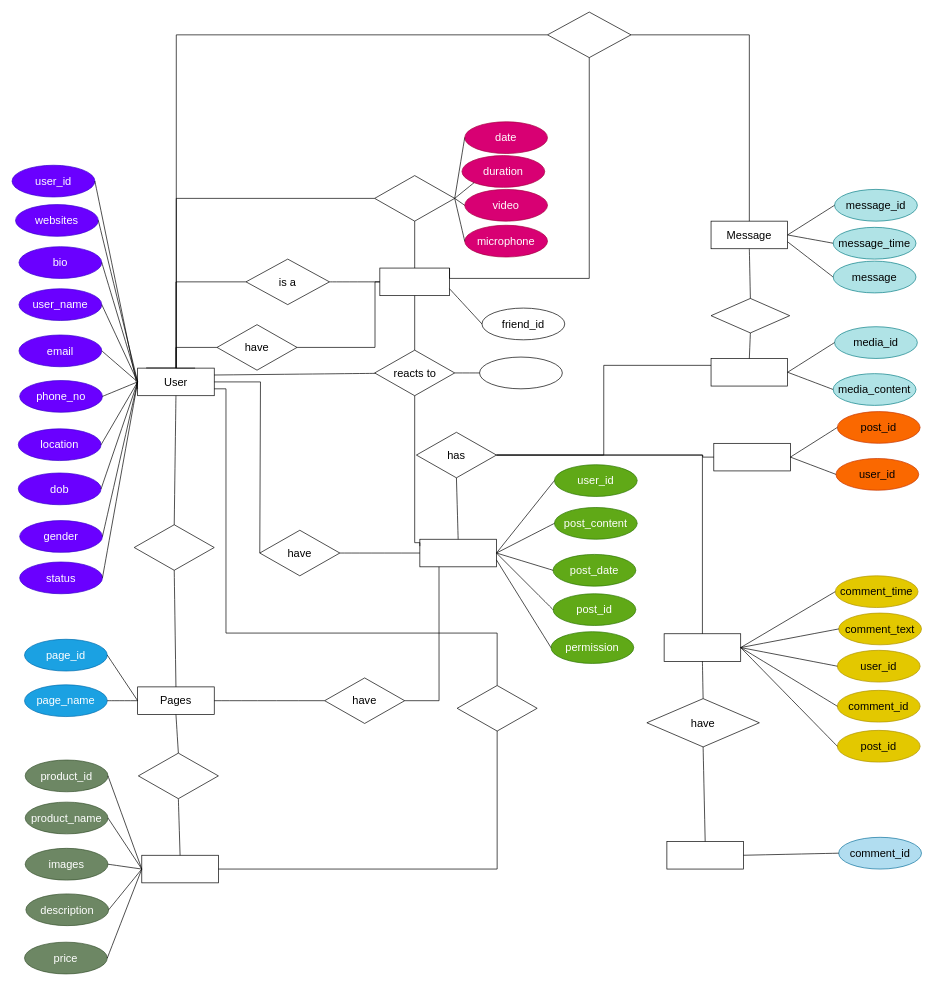
Some shapes in this 934 by 986 pixel diagram are drawn without their labels. Each missing label, with the centre of its shape:
"Buys" belongs at point 496,708.
"Calls" belongs at point 414,198.
"comment_likes" belongs at point 704,855.
"Comments" belongs at point 702,647.
"contains" belongs at point 750,315.
"follows" belongs at point 174,547.
"Friends" belongs at point 414,281.
"Media" belongs at point 749,372.
"Posts" belongs at point 457,553.
"Product" belongs at point 179,869.
"reaction" belongs at point 520,372.
"sells" belongs at point 178,775.
"Sends" belongs at point 589,34.
"shares" belongs at point 751,457.
